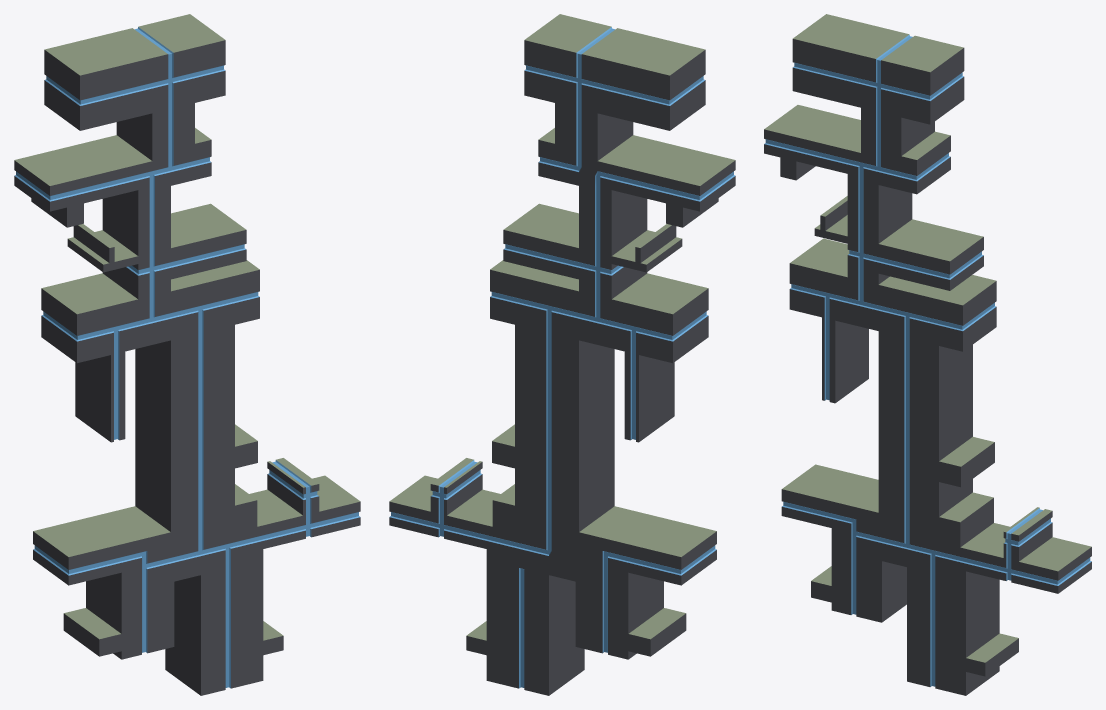
File: GlowBlock.fbx
The picture shows the model from 3 angles, left to right: view 1: azimuth 30°, elevation 25°; view 2: azimuth 150°, elevation 25°; view 3: azimuth 330°, elevation 25°; orthographic projection. The views are drawn at different scales.
Parts seen in each view (by area): view 1: pCube2; view 2: pCube2; view 3: pCube2.
Part boxes in pixels (x1,y1,x2,y2): pCube2: (14, 14, 360, 695); pCube2: (389, 14, 735, 695); pCube2: (764, 14, 1091, 695).
Size of the model in its own units: 491 by 980 by 97.48.
